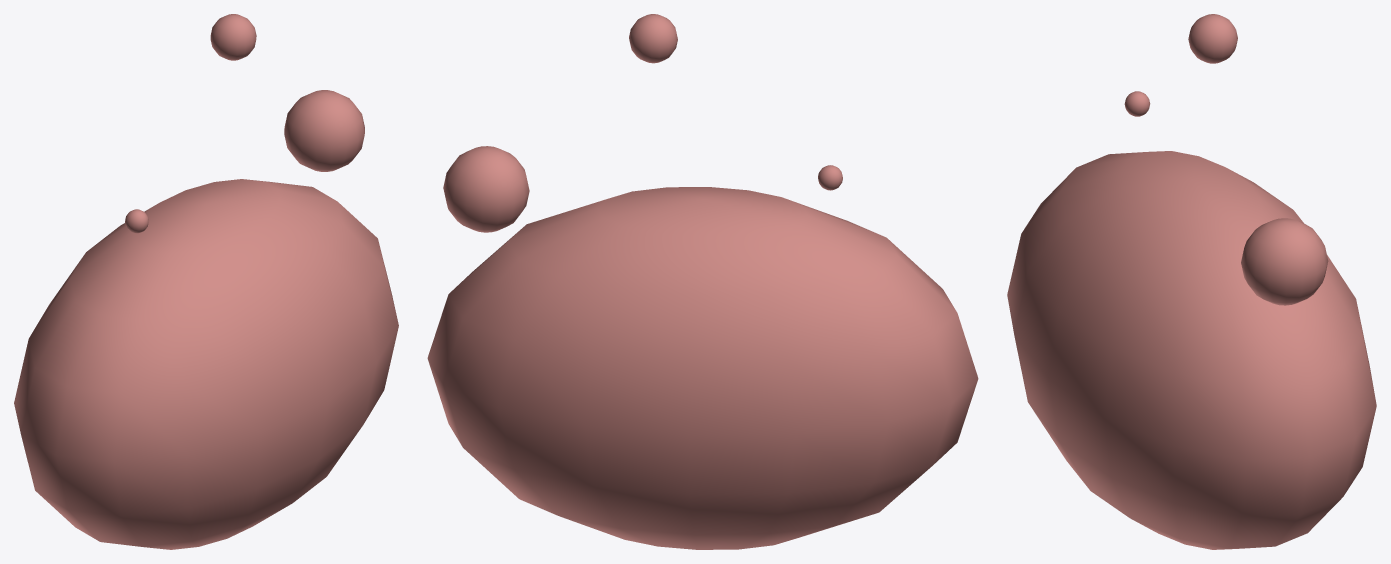
3 views of the same model, side by side, from view 1: azimuth 30°, elevation 25°; view 2: azimuth 150°, elevation 25°; view 3: azimuth 270°, elevation 25° (orthographic). The views are drawn at different scales.
Visible parts, largest first — view 1: Sphere_1_2, Sphere_4, Sphere_2.004, Sphere_1_3; view 2: Sphere_1_2, Sphere_4, Sphere_2.004; view 3: Sphere_1_2, Sphere_4, Sphere_2.004, Sphere_1_3.
Part boxes in pixels (bbox=[...]): Sphere_1_2: bbox=[14, 179, 398, 549]; Sphere_4: bbox=[284, 90, 364, 171]; Sphere_2.004: bbox=[210, 14, 256, 60]; Sphere_1_3: bbox=[125, 209, 148, 233]; Sphere_1_2: bbox=[427, 187, 978, 549]; Sphere_4: bbox=[443, 146, 529, 232]; Sphere_2.004: bbox=[629, 14, 677, 63]; Sphere_1_2: bbox=[1007, 151, 1376, 549]; Sphere_4: bbox=[1241, 218, 1328, 305]; Sphere_2.004: bbox=[1188, 14, 1237, 63]; Sphere_1_3: bbox=[1124, 91, 1150, 116].
Size of the model in its own units: 36.34 by 25.91 by 40.53.
